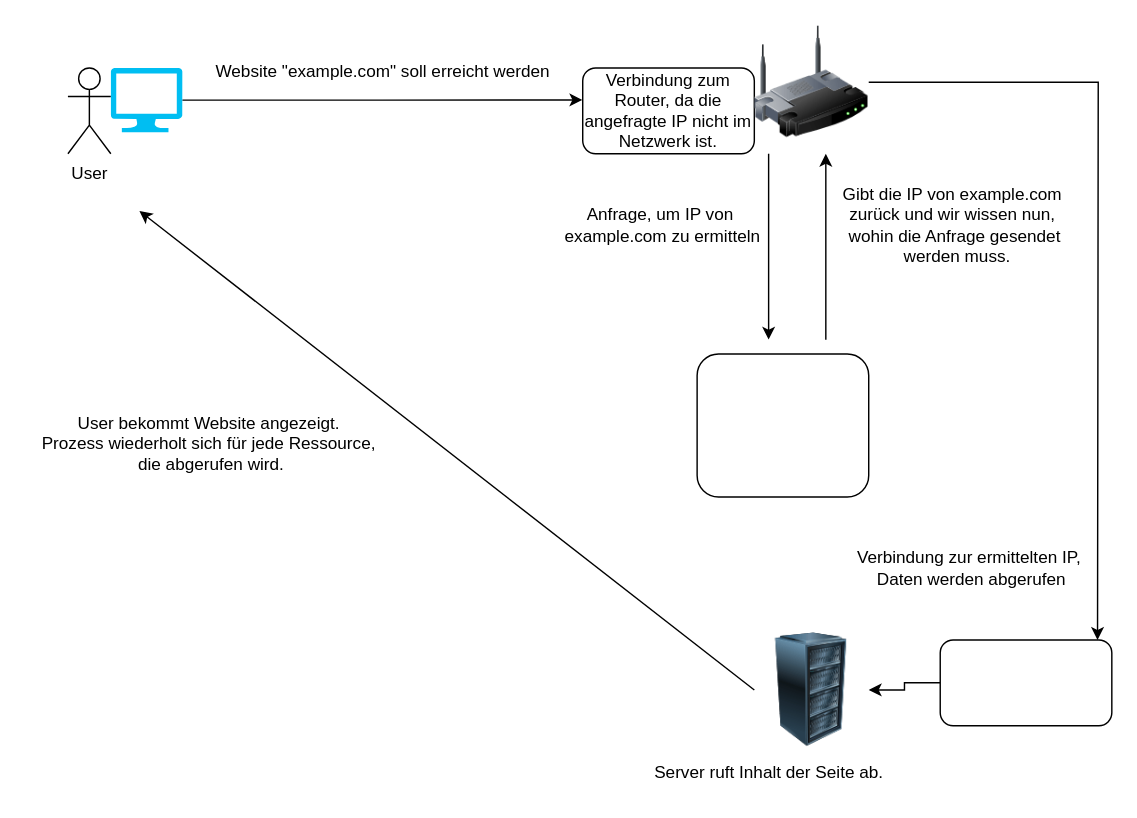
Image size: 1137x818. Some labels were removed from this diagram. The shapes that lost their labels are listed below. From the top down, each one's box as (x1, y1, x2, y2) in pixels, then its label:
(696, 352, 869, 497): DNS (Domain Name System)
(939, 638, 1112, 726): HTTP/HTTPS Port 80 / 443
